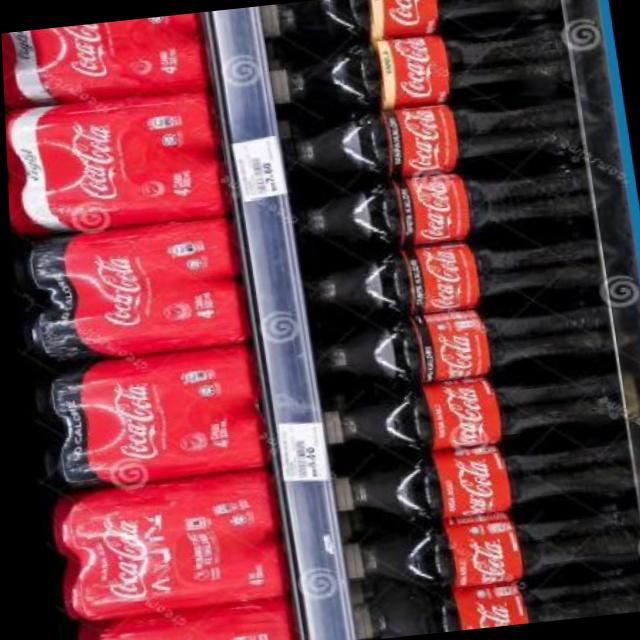Drinks: (41, 466, 291, 624), (24, 342, 262, 492), (9, 215, 244, 364), (3, 88, 229, 238), (263, 20, 575, 121), (275, 87, 587, 188), (296, 223, 608, 324), (316, 361, 627, 462), (286, 156, 598, 256), (306, 292, 617, 392), (326, 430, 636, 529), (336, 497, 640, 596), (344, 565, 640, 640), (0, 11, 213, 109), (259, 0, 566, 51)
